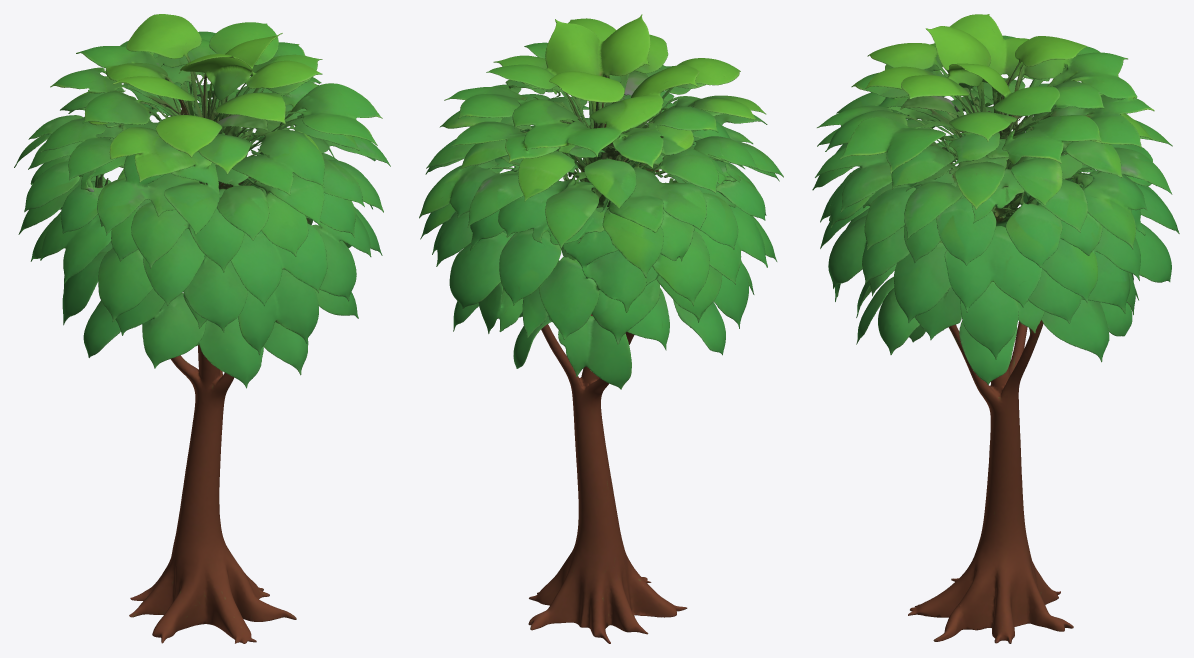
The model's file is transicao_arvore_mata.glb.
3 renders of one model, left to right at view 1: azimuth 30°, elevation 25°; view 2: azimuth 150°, elevation 25°; view 3: azimuth 270°, elevation 25°, orthographic.
Bounding box in the file's own units: 1.07 × 1.89 × 1.08.
Materials: 1 (1 with a texture image).
